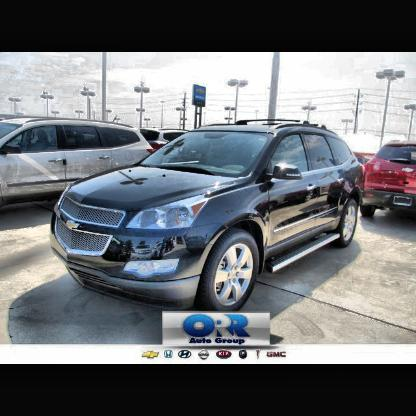Chevrolet Traverse SUV 2012: (48, 117, 368, 315)
